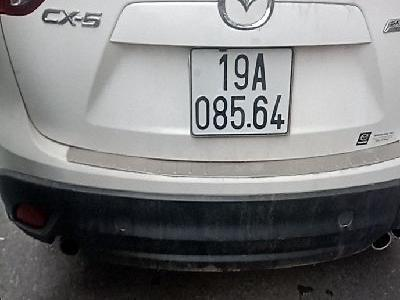number: (188, 44, 292, 134)
